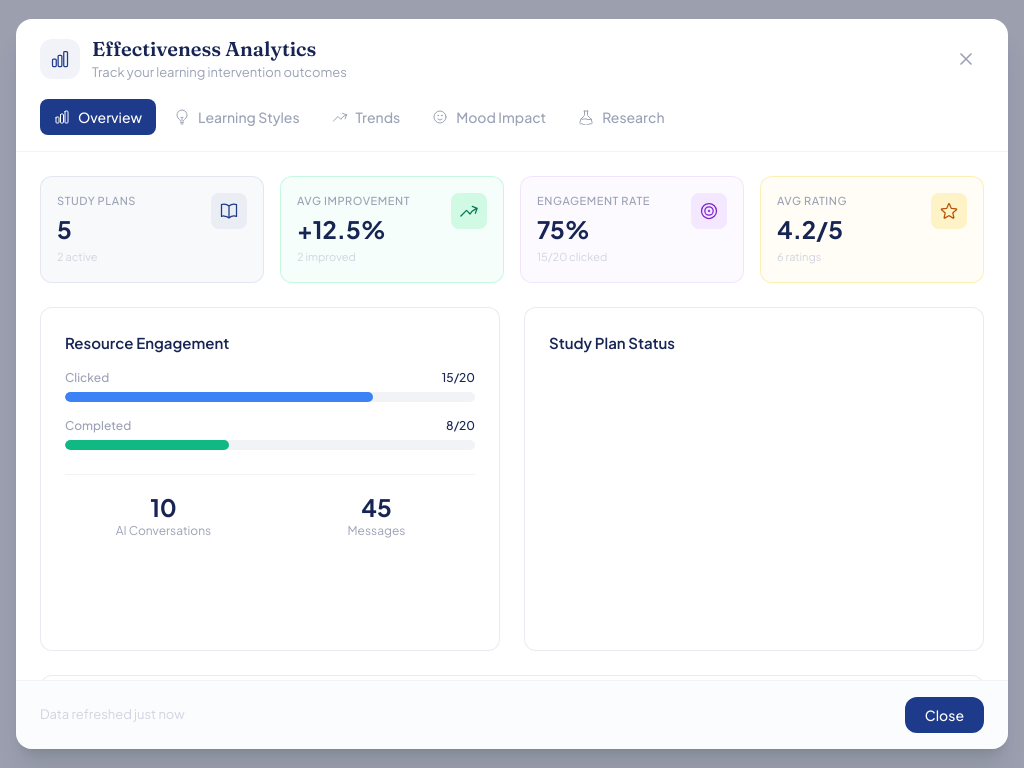
EffectivenessAnalytics › switches to Learning Styles tab when clicked
The image size is (1024, 768).
Click the button "Learning Styles" at (237, 117), box x1=160 y1=99 x2=314 y2=135
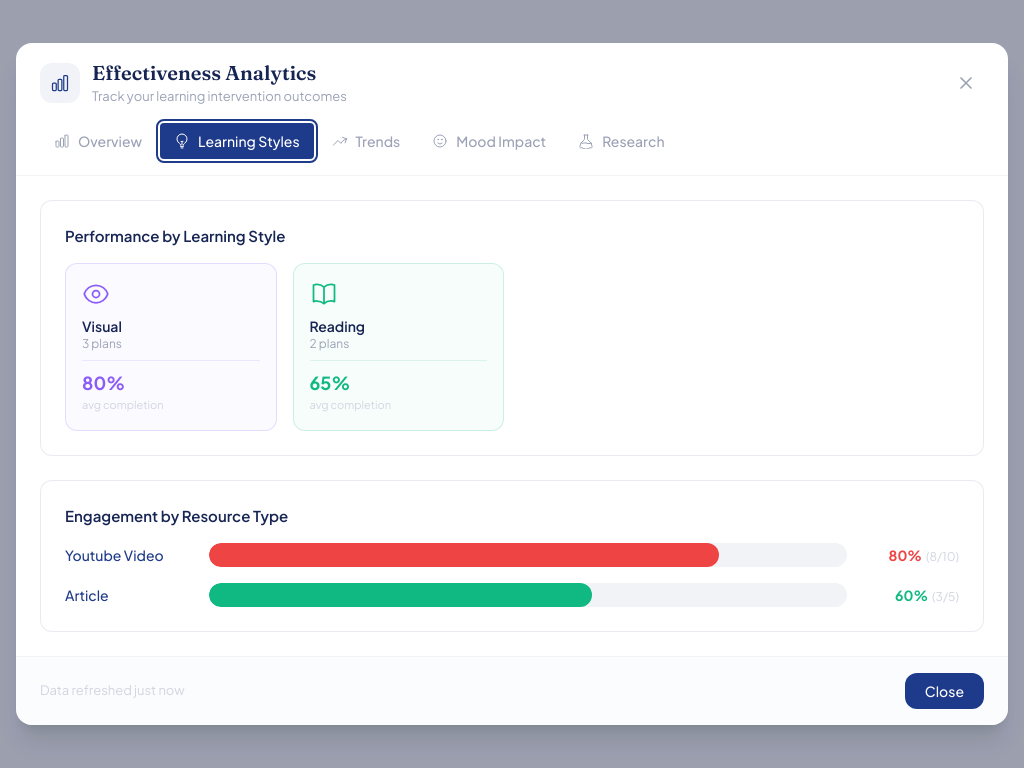
Check: the heading "Performance by Learning Style" is shown, box x1=65 y1=226 x2=285 y2=244
Check: the text "visual" is shown, box x1=82 y1=317 x2=122 y2=335
Check: the text "reading" is shown, box x1=310 y1=317 x2=365 y2=335
